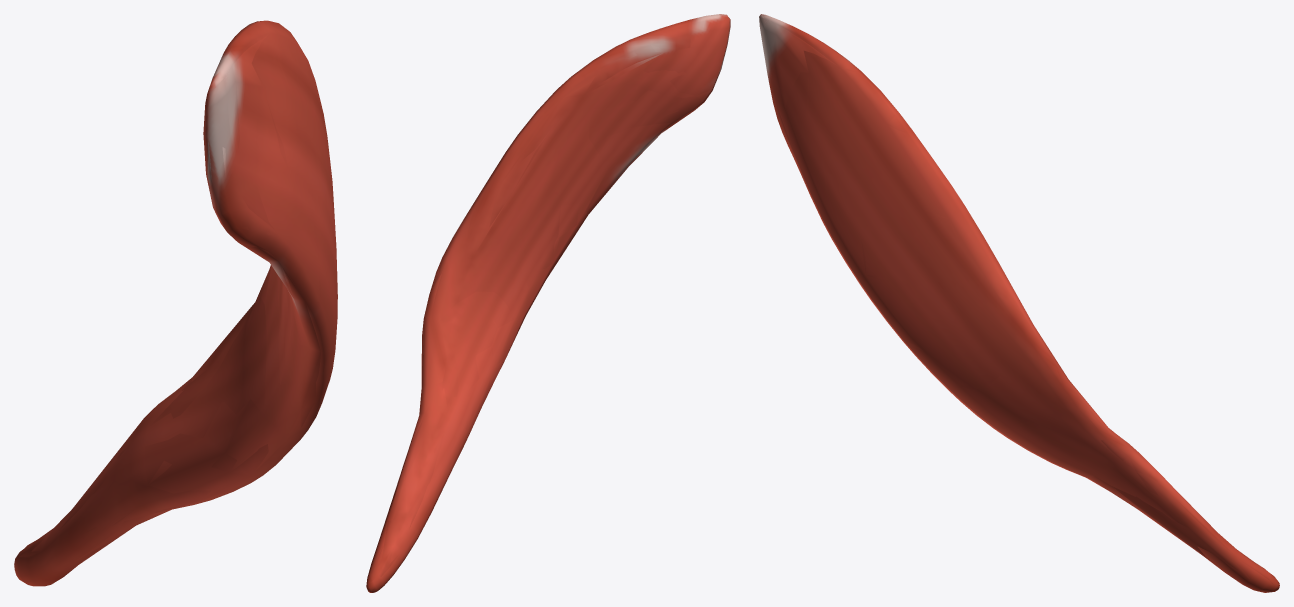
The model's file is L Brachiocephalicus.fbx.
The picture shows the model from 3 angles, left to right: view 1: azimuth 30°, elevation 25°; view 2: azimuth 150°, elevation 25°; view 3: azimuth 270°, elevation 25°; orthographic projection. The views are drawn at different scales.
Visible parts, largest first — view 1: L Brachiocephalicus, L Brachiocephalicus low; view 2: L Brachiocephalicus low, L Brachiocephalicus; view 3: L Brachiocephalicus, L Brachiocephalicus low.
Boxes of the visible parts, x1,y1,x2,y2 form: L Brachiocephalicus: [14, 20, 337, 586]; L Brachiocephalicus low: [19, 21, 337, 580]; L Brachiocephalicus low: [367, 18, 730, 579]; L Brachiocephalicus: [366, 14, 730, 592]; L Brachiocephalicus: [759, 14, 1279, 592]; L Brachiocephalicus low: [759, 14, 1278, 589].
Size of the model in its own units: 9.79 by 24.03 by 22.33.
